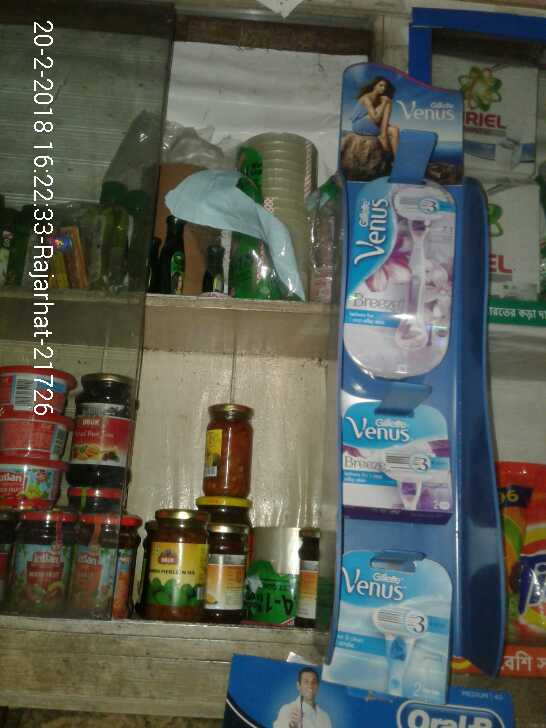venus: (343, 174, 456, 383), (322, 542, 461, 706), (340, 392, 455, 518)
